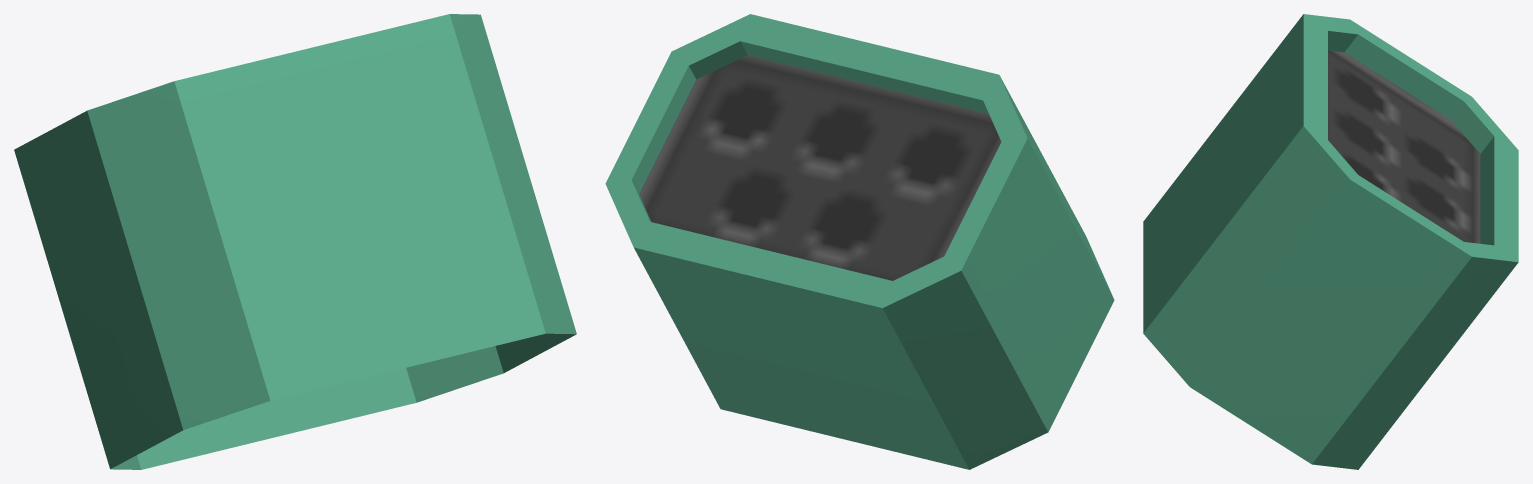
The model's file is RocketLauncher1Enemy2.fbx.
The picture shows the model from 3 angles, left to right: view 1: azimuth 30°, elevation 25°; view 2: azimuth 150°, elevation 25°; view 3: azimuth 270°, elevation 25°; orthographic projection. The views are drawn at different scales.
Parts seen in each view (by area): view 1: RocketLauncher1Enemy2; view 2: RocketLauncher1Enemy2; view 3: RocketLauncher1Enemy2.
Part boxes in pixels (left/top/right/bottom): RocketLauncher1Enemy2: left=14, top=14, right=576, bottom=469; RocketLauncher1Enemy2: left=605, top=14, right=1114, bottom=469; RocketLauncher1Enemy2: left=1143, top=14, right=1518, bottom=469.
Size of the model in its own units: 0.4771 by 0.4813 by 0.4825.
